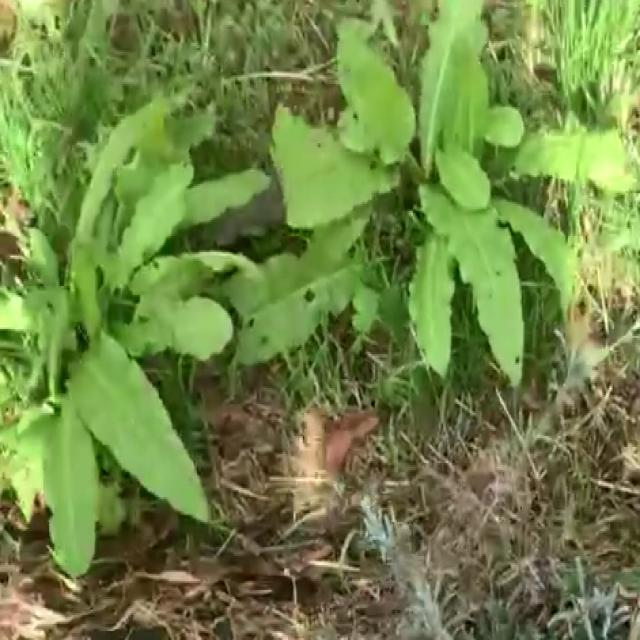organic waste: (238, 16, 609, 397), (0, 94, 270, 566)
